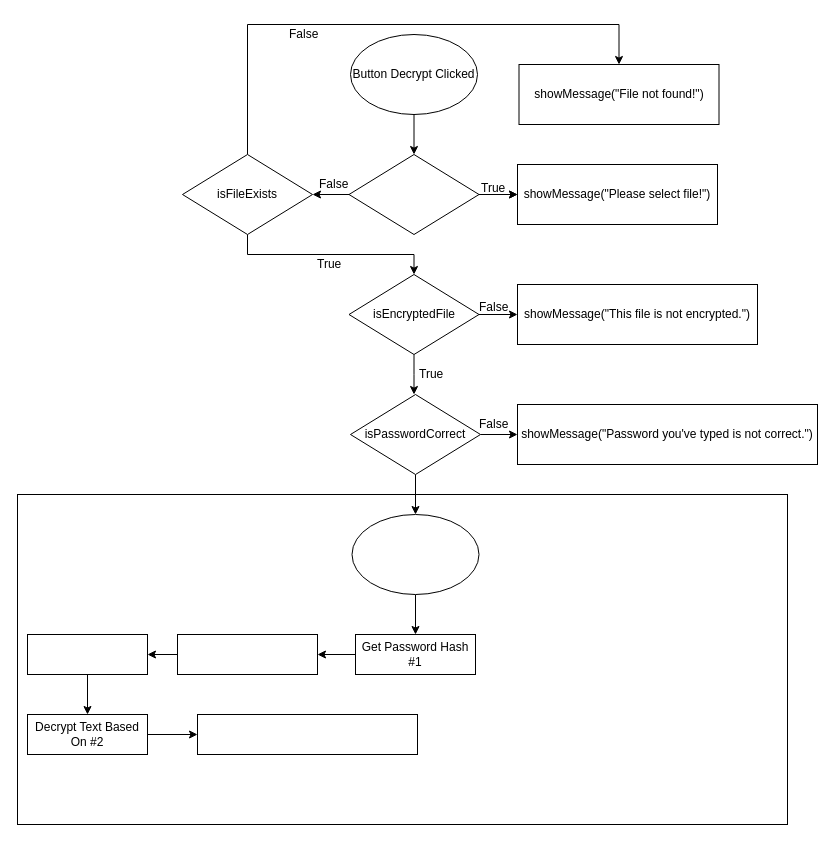
This 835x842 diagram has some shape labels left out. Each missing label, with the centre of its shape:
Get Random Password Based On #1: point (247, 654)
Get Random Password Hash #2: point (87, 654)
selectedFile == null: point (413, 194)
Start Decrypt File: point (415, 554)
Write Decrypted Content To New File Line By Line: point (307, 734)
